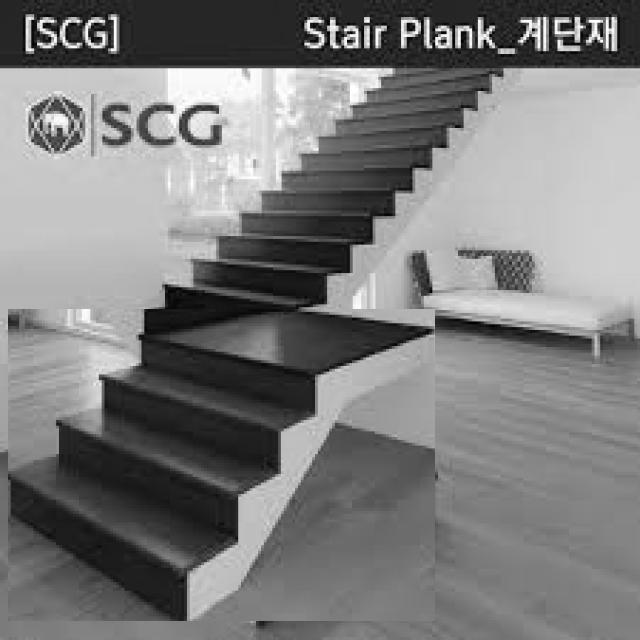stair: (12, 67, 505, 618), (8, 310, 435, 621)
